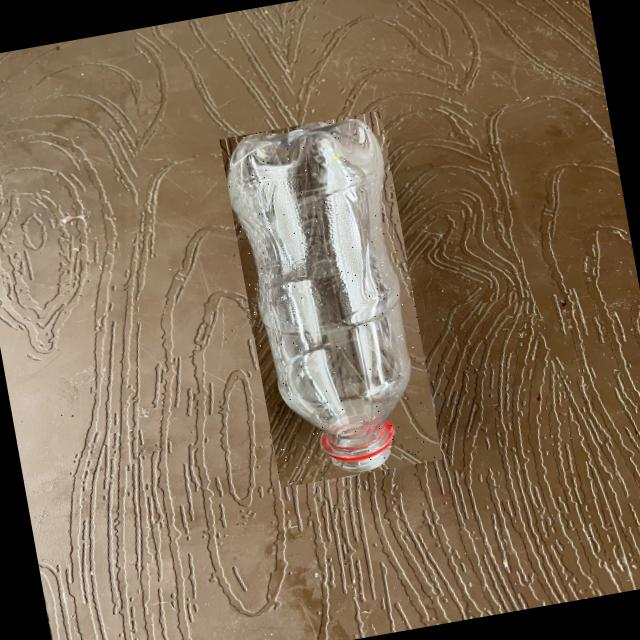PET_With_Cap: (219, 110, 442, 487)
